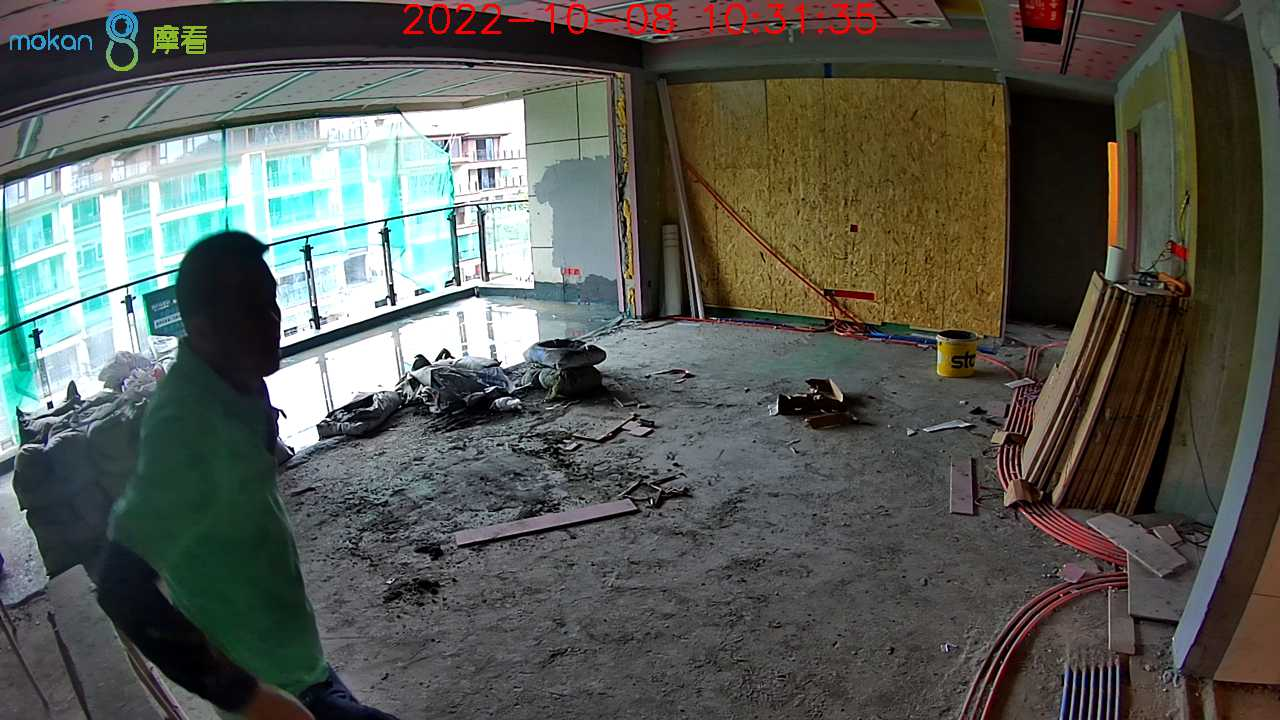window: (98, 235, 379, 720), (1, 112, 538, 344)
